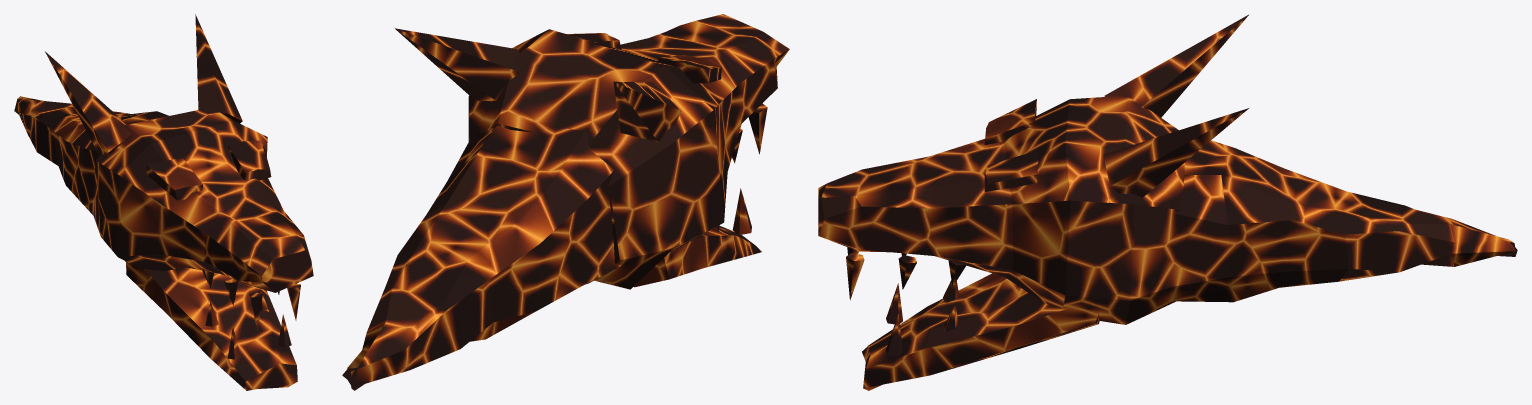
File: shakugo-hound-projectile.glb
3 renders of one model, left to right at view 1: azimuth 30°, elevation 25°; view 2: azimuth 150°, elevation 25°; view 3: azimuth 270°, elevation 25°, orthographic. The views are drawn at different scales.
Visible parts, largest first — view 1: Shakugo_Magma_Hound; view 2: Shakugo_Magma_Hound; view 3: Shakugo_Magma_Hound.
Boxes of the visible parts, x1,y1,x2,y2 form: Shakugo_Magma_Hound: (14, 14, 313, 390); Shakugo_Magma_Hound: (342, 14, 789, 390); Shakugo_Magma_Hound: (818, 14, 1517, 390).
Size of the model in its own units: 1.79 by 2.76 by 5.5.
Materials: 1 (1 with a texture image).
